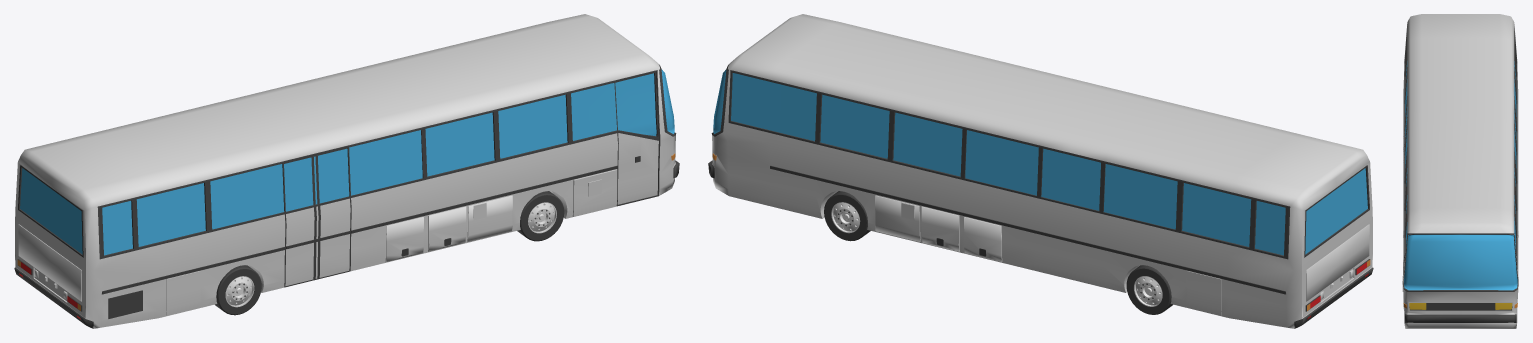
Rendered from bus.glb.
The picture shows the model from 3 angles, left to right: view 1: azimuth 30°, elevation 25°; view 2: azimuth 150°, elevation 25°; view 3: azimuth 270°, elevation 25°; orthographic projection. The views are drawn at different scales.
Visible parts, largest first — view 1: Bus_Body, wheelRR, wheelFR; view 2: Bus_Body, wheelLR, wheelFL; view 3: Bus_Body.
Part boxes in pixels (left/top/right/bottom): Bus_Body: left=14, top=14, right=679, bottom=328; wheelRR: left=215, top=265, right=261, bottom=315; wheelFR: left=517, top=191, right=564, bottom=241; Bus_Body: left=708, top=14, right=1373, bottom=328; wheelLR: left=1126, top=265, right=1172, bottom=314; wheelFL: left=824, top=191, right=870, bottom=241; Bus_Body: left=1402, top=14, right=1518, bottom=328.
Bounding box in the file's own units: 9.55 × 2.35 × 2.12.
